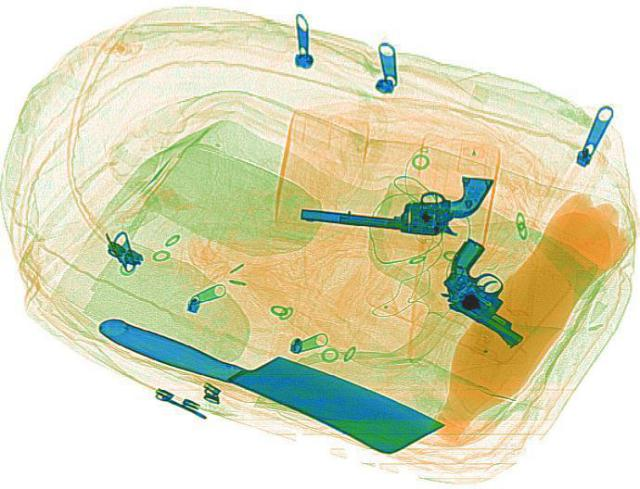Gun: (413, 232, 543, 355), (298, 176, 496, 240)
Knife: (85, 288, 448, 466)
